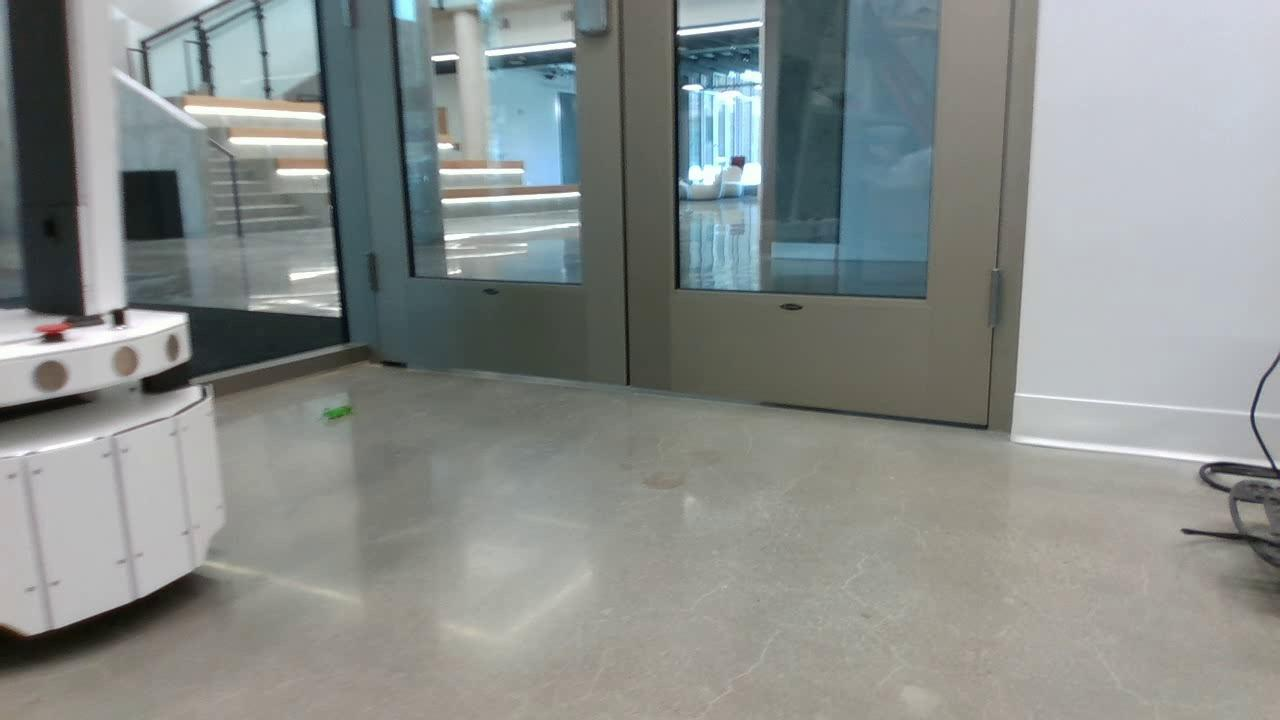grasshopper: (324, 400, 356, 426)
